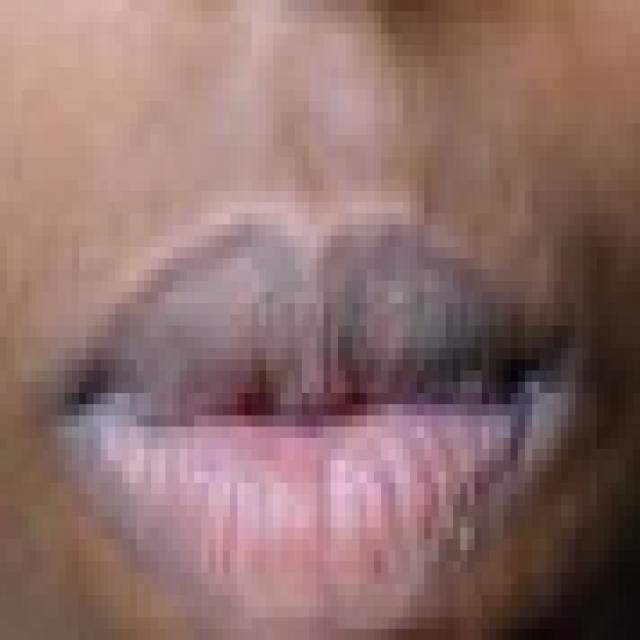closed-mouth: (43, 191, 583, 629)
